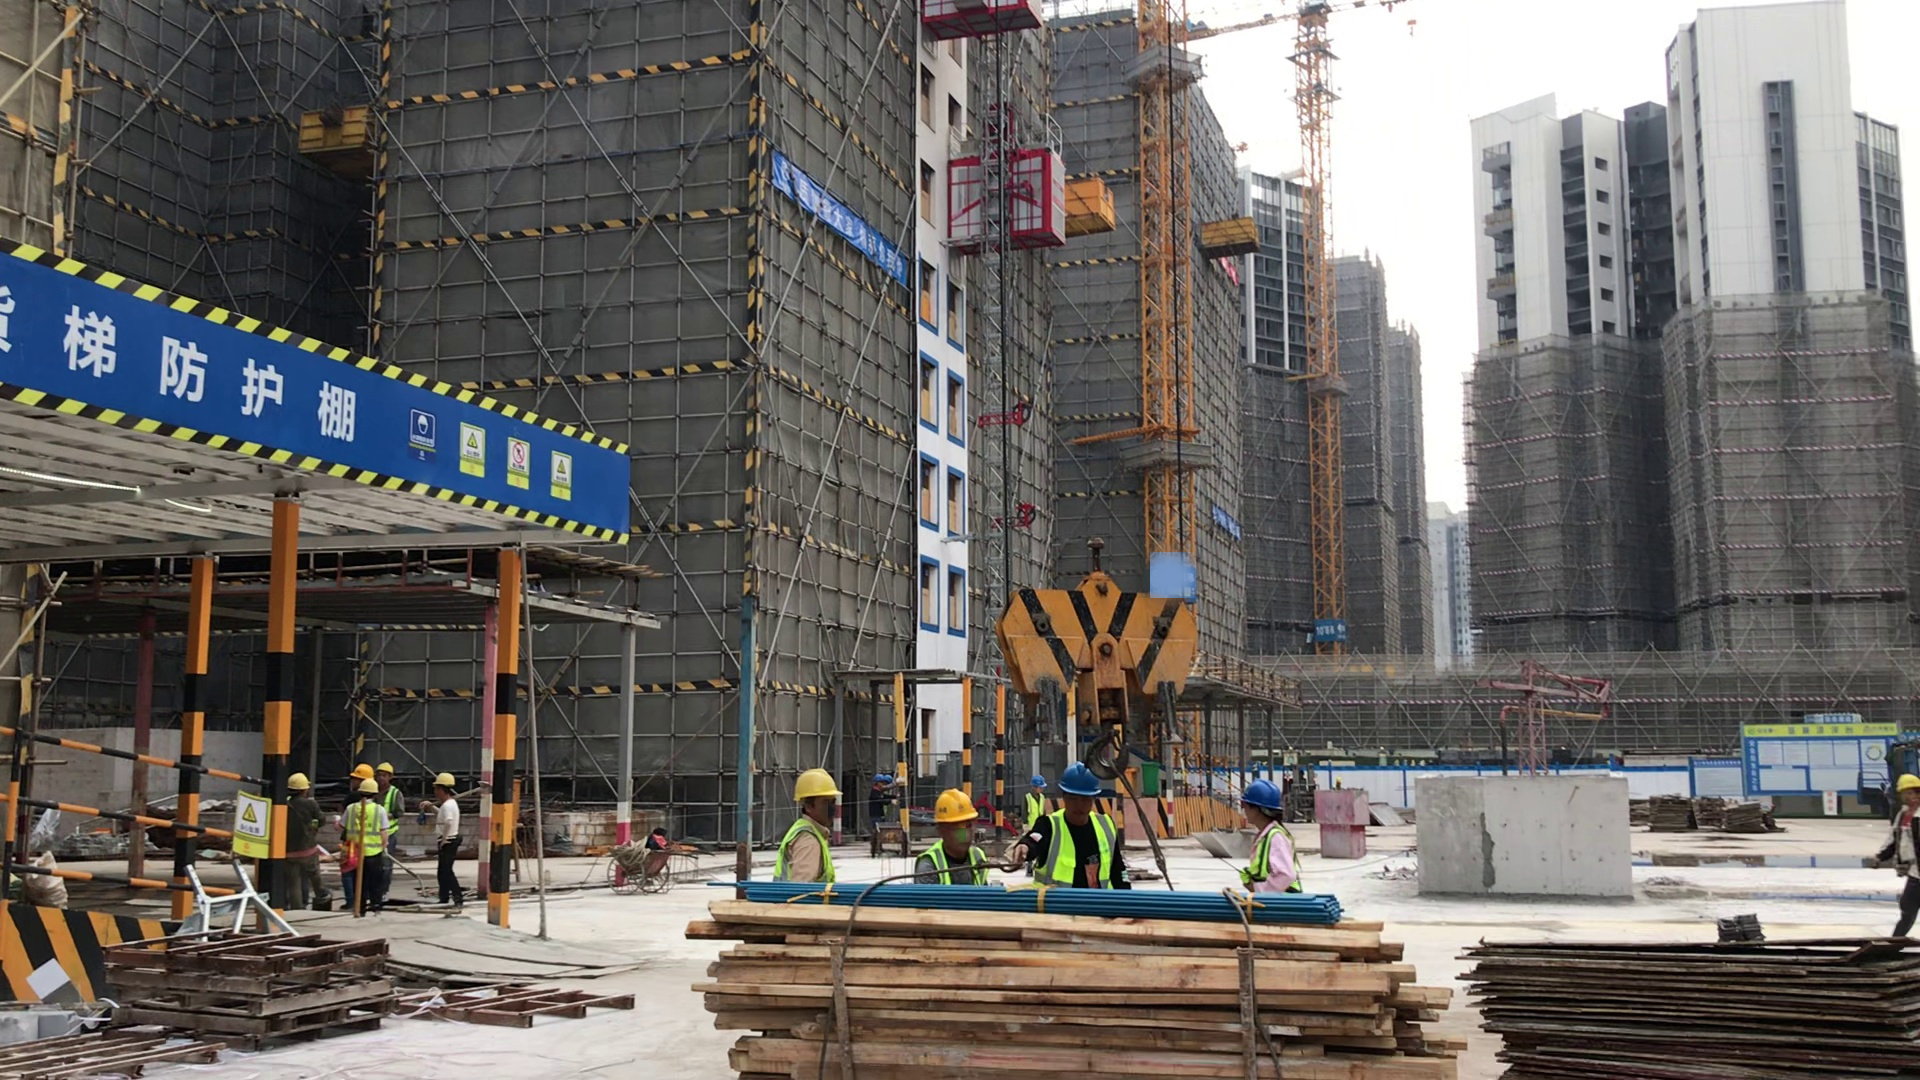board: (1471, 933, 1920, 1075)
handcart: (600, 833, 706, 894), (864, 816, 912, 863)
helmet: (1051, 763, 1102, 798), (790, 766, 839, 798), (936, 789, 979, 824), (1244, 780, 1284, 814), (283, 770, 313, 793), (347, 760, 373, 782), (1898, 774, 1919, 799), (375, 760, 396, 779), (433, 773, 456, 786), (358, 778, 377, 791)
hook: (1007, 540, 1201, 777)
hopper: (1194, 825, 1251, 857)
person: (1026, 766, 1126, 895), (1235, 776, 1311, 894), (777, 762, 843, 894), (334, 755, 385, 920), (920, 785, 996, 889), (425, 770, 468, 918), (1881, 769, 1920, 931), (283, 768, 324, 913)
slogan: (764, 145, 911, 300), (401, 400, 584, 506), (228, 784, 272, 866), (1312, 618, 1350, 650)
vest: (1035, 811, 1116, 880), (779, 817, 833, 882), (1247, 828, 1298, 886), (346, 805, 388, 861), (929, 845, 994, 879), (1026, 795, 1044, 820)
wood: (703, 892, 1462, 1075)
